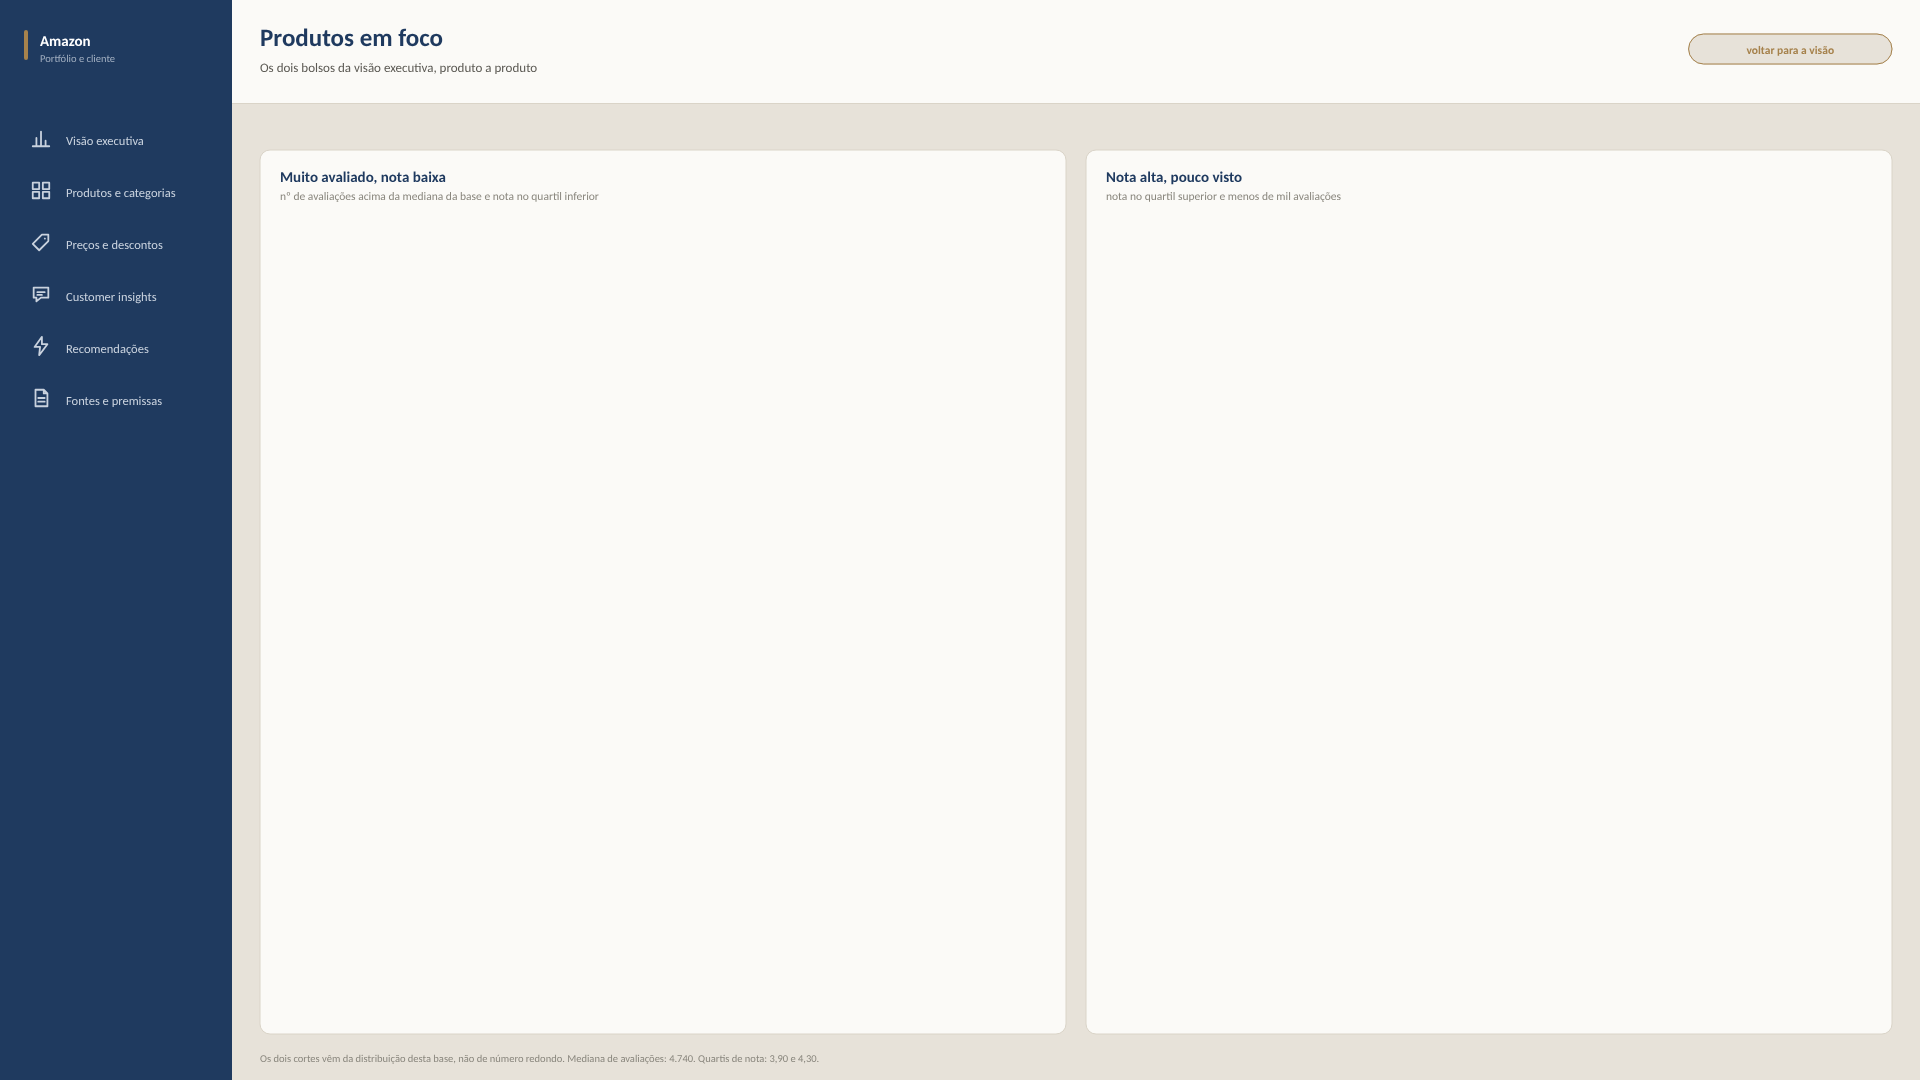

This screenshot's page, from the dashboard's own definition file:
{"tool":"powerbi","page":{"name":"Produtos em foco","canvas":[1920,1080],"ordinal":6},"visuals":[{"type":"tableEx","fields":{"Values":["fProdutos.product_name","_Medidas.Avaliações","_Medidas.Nota média ponderada","_Medidas.Preço com desconto"]},"box":[276,216,774,802],"z":100},{"type":"tableEx","fields":{"Values":["fProdutos.product_name","_Medidas.Avaliações","_Medidas.Nota média ponderada","_Medidas.Preço com desconto"]},"box":[1102,216,774,802],"z":101},{"type":"actionButton","box":[1688.6,34,203.4,30],"z":900},{"type":"actionButton","box":[12,116,208,46],"z":20000},{"type":"actionButton","box":[12,168,208,46],"z":20001},{"type":"actionButton","box":[12,220,208,46],"z":20002},{"type":"actionButton","box":[12,272,208,46],"z":20003},{"type":"actionButton","box":[12,324,208,46],"z":20004},{"type":"actionButton","box":[12,376,208,46],"z":20005}]}

Visuals, with their boxes on the page's 1920x1080 design canvas (x1, y1, x2, y2). These are canvas units, not pixel positions in the 1920x1080 screenshot, which may show the page scaled, cropped or inside an application window:
tableEx - fProdutos.product_name x _Medidas.Avaliações: select_region(276, 216, 1050, 1018)
tableEx - fProdutos.product_name x _Medidas.Avaliações: select_region(1102, 216, 1876, 1018)
actionButton: select_region(1689, 34, 1892, 64)
actionButton: select_region(12, 116, 220, 162)
actionButton: select_region(12, 168, 220, 214)
actionButton: select_region(12, 220, 220, 266)
actionButton: select_region(12, 272, 220, 318)
actionButton: select_region(12, 324, 220, 370)
actionButton: select_region(12, 376, 220, 422)
